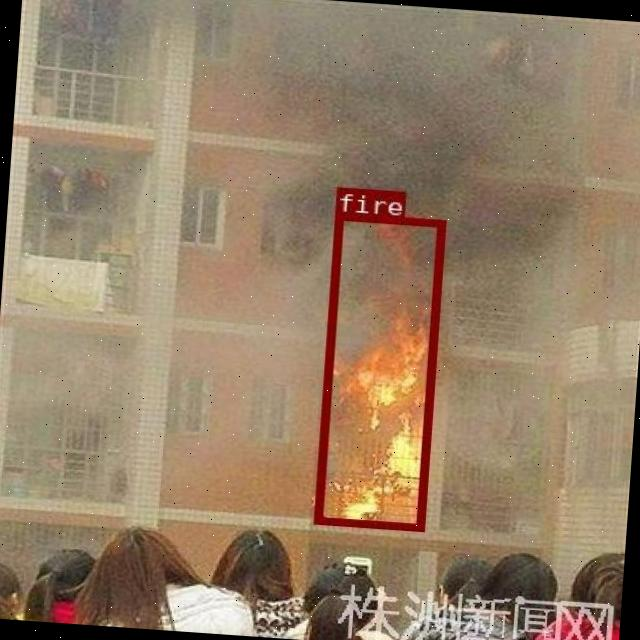fire: (312, 211, 443, 528)
